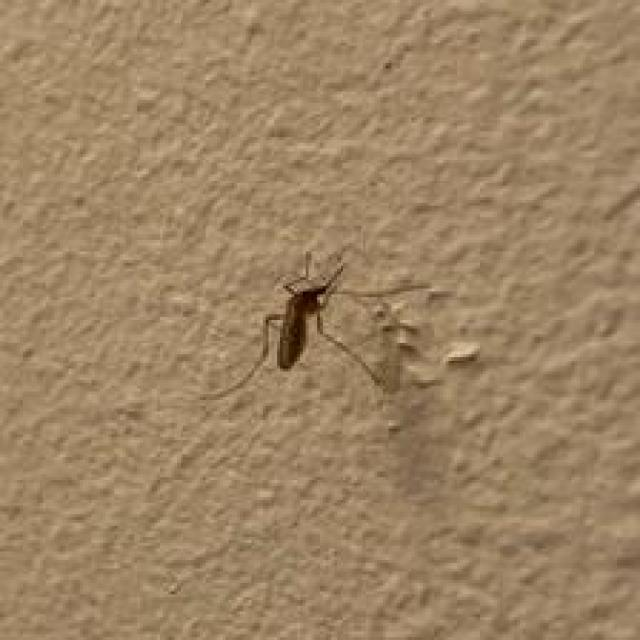Culex: (198, 239, 442, 404)
